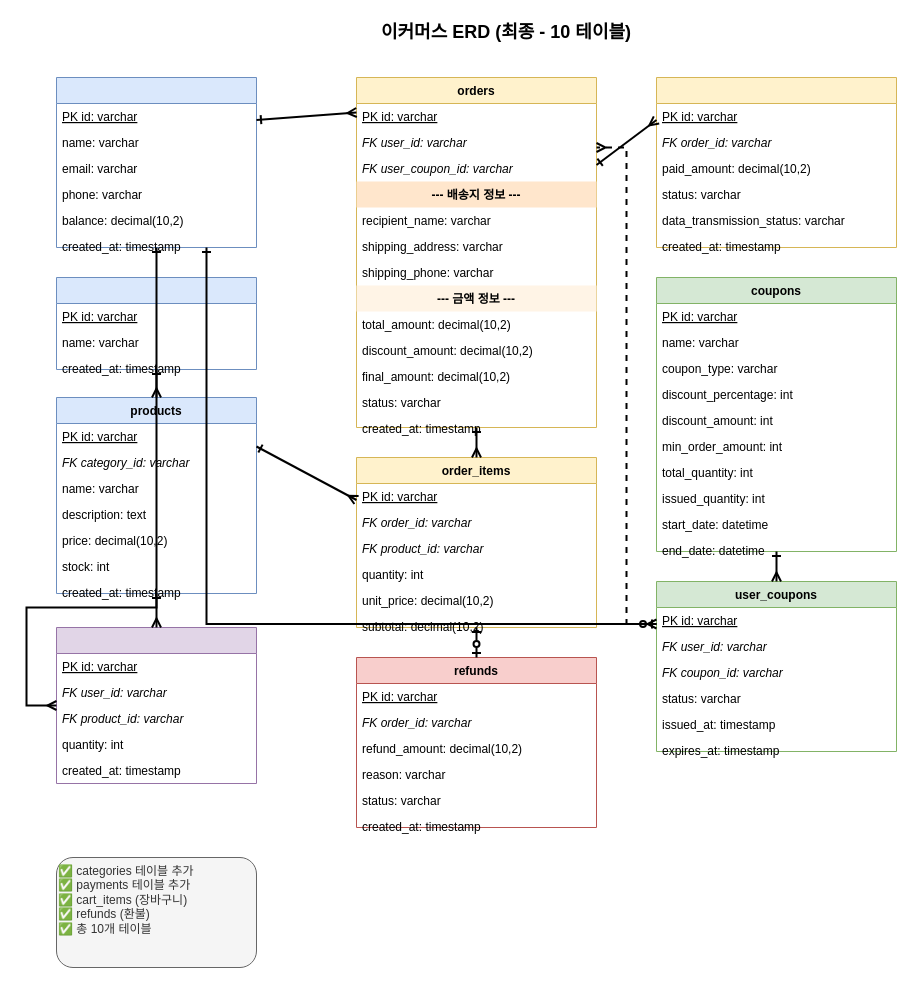
The diagram is 914 pixels wide and 985 high, and some of its shapes have lost their labels. The box of each missing label's shape, as (x1, y1, x2, y2) in pixels:
cart_items: (56, 626, 256, 784)
categories: (56, 276, 256, 370)
payments: (656, 76, 896, 248)
users: (56, 76, 256, 248)
